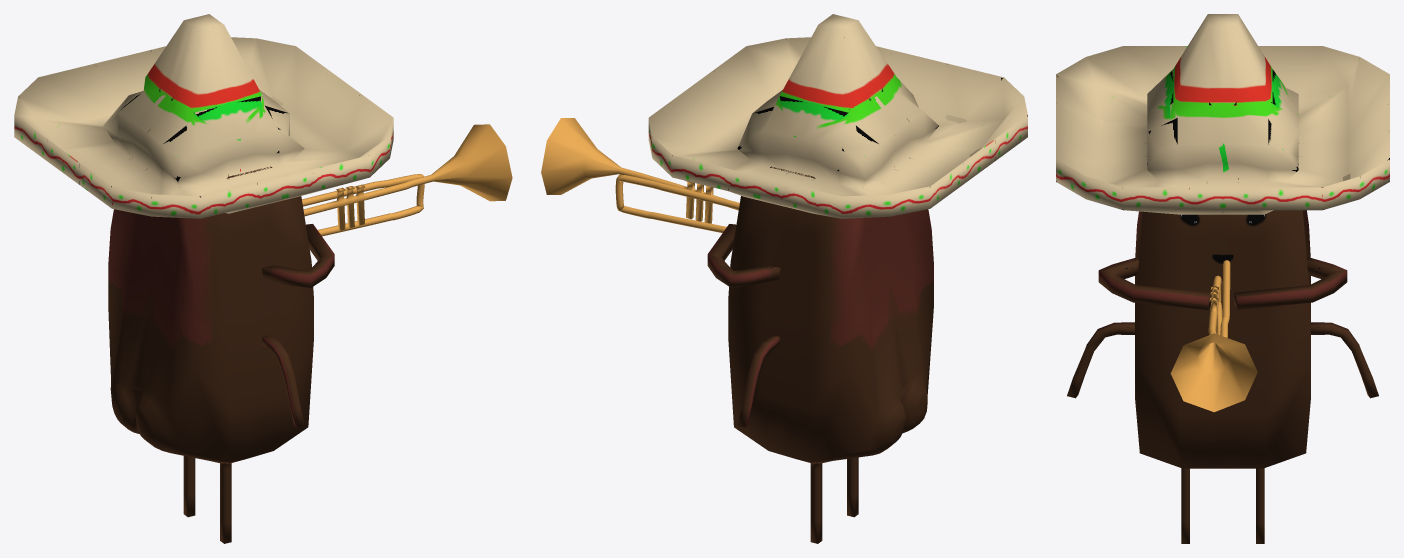
The model's file is cucaracha.glb.
3 renders of one model, left to right at view 1: azimuth 30°, elevation 25°; view 2: azimuth 150°, elevation 25°; view 3: azimuth 270°, elevation 25°, orthographic. The views are drawn at different scales.
Visible parts, largest first — view 1: Cube.001, Cube, BezierCurve; view 2: Cube.001, Cube, BezierCurve; view 3: Cube.001, Cube, BezierCurve.
Boxes of the visible parts, box(x1,y1,x2,y2) form: Cube.001: box(14, 14, 393, 218); Cube: box(108, 166, 334, 543); BezierCurve: box(302, 124, 512, 236); Cube.001: box(648, 14, 1027, 218); Cube: box(707, 166, 933, 543); BezierCurve: box(541, 118, 739, 232); Cube.001: box(1056, 14, 1389, 214); Cube: box(1067, 163, 1378, 543); BezierCurve: box(1170, 260, 1257, 412).
Size of the model in its own units: 6.63 by 7.57 by 4.4.
3 materials, 2 textured.
